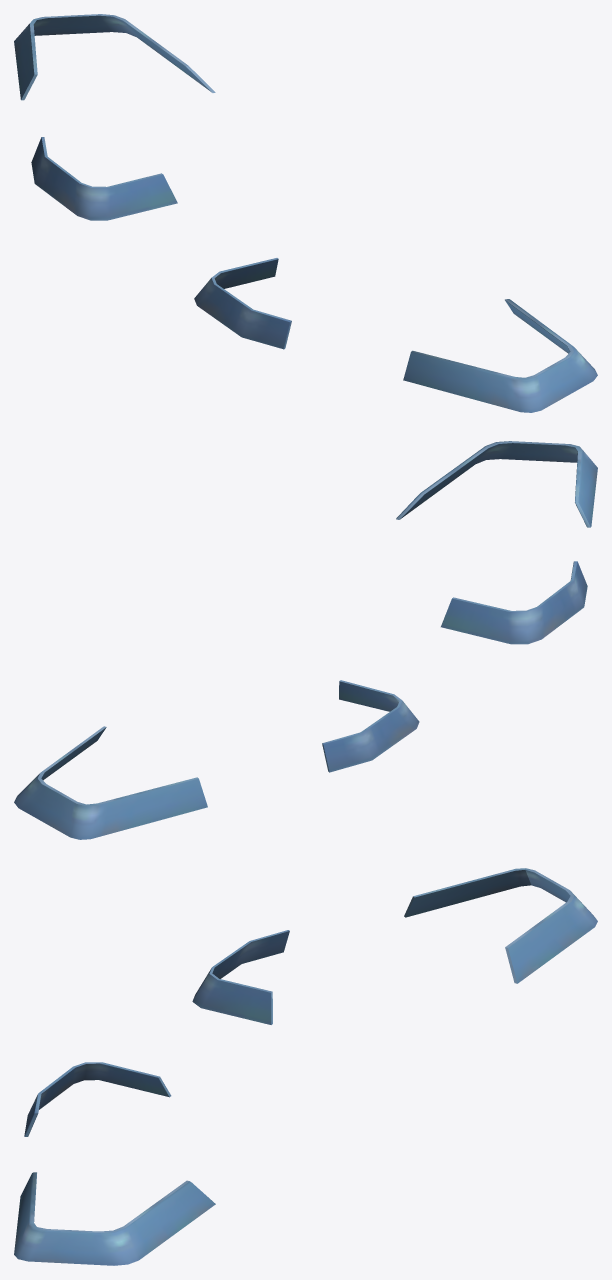
The model's file is pref_sm_beach_bk_pointmol_rightglass01_lv0.fbx.
3 renders of one model, top to bottom at view 1: azimuth 30°, elevation 25°; view 2: azimuth 150°, elevation 25°; view 3: azimuth 330°, elevation 25°, orthographic.
Parts seen in each view (by area): view 1: pref_sm_beach_bk_pointmol_rightglass01_lv0; view 2: pref_sm_beach_bk_pointmol_rightglass01_lv0; view 3: pref_sm_beach_bk_pointmol_rightglass01_lv0.
Part boxes in pixels (x1=…): pref_sm_beach_bk_pointmol_rightglass01_lv0: x1=14, y1=14, x2=597, y2=412; pref_sm_beach_bk_pointmol_rightglass01_lv0: x1=14, y1=441, x2=597, y2=839; pref_sm_beach_bk_pointmol_rightglass01_lv0: x1=14, y1=868, x2=597, y2=1265.
Bounding box in the file's own units: 9.91 × 1.04 × 37.79.
